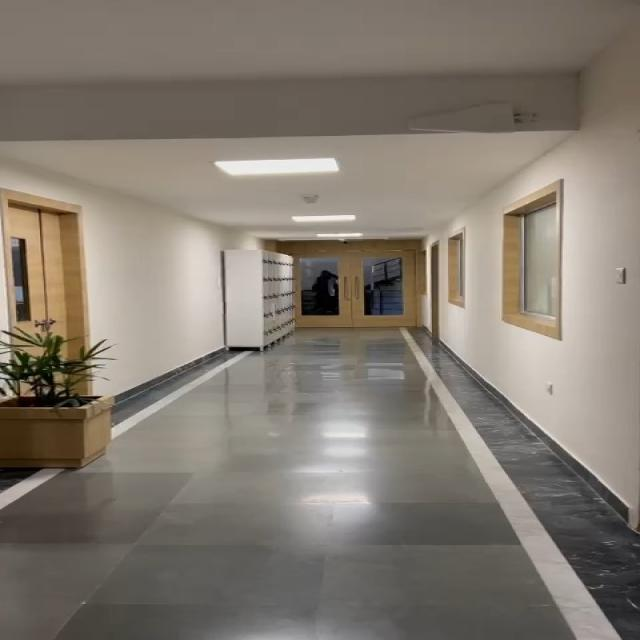door: (278, 235, 445, 348)
floor: (0, 463, 640, 640), (200, 349, 490, 471)
furniture: (0, 323, 119, 472)
wall: (456, 192, 640, 408), (78, 171, 215, 367), (0, 187, 97, 359)
